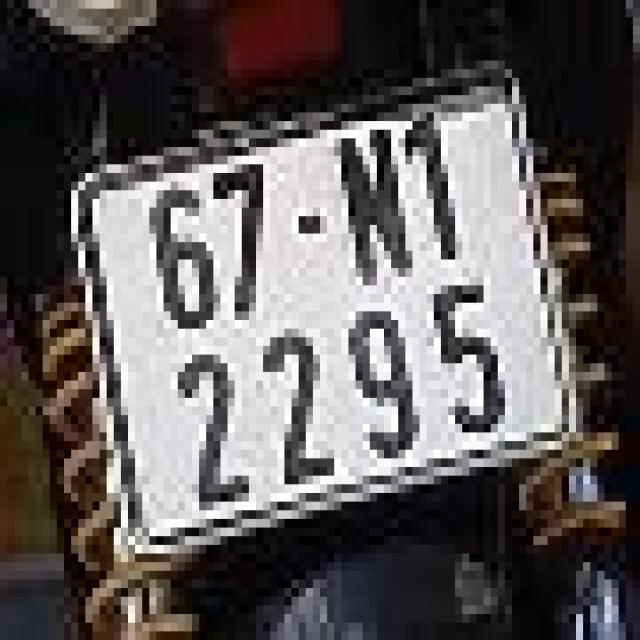1: (394, 95, 478, 276)
2: (163, 342, 271, 524), (245, 308, 349, 497)
5: (417, 262, 526, 443)
6: (132, 173, 230, 355)
7: (203, 153, 287, 337)
9: (336, 295, 442, 472)
N: (323, 118, 425, 295)
